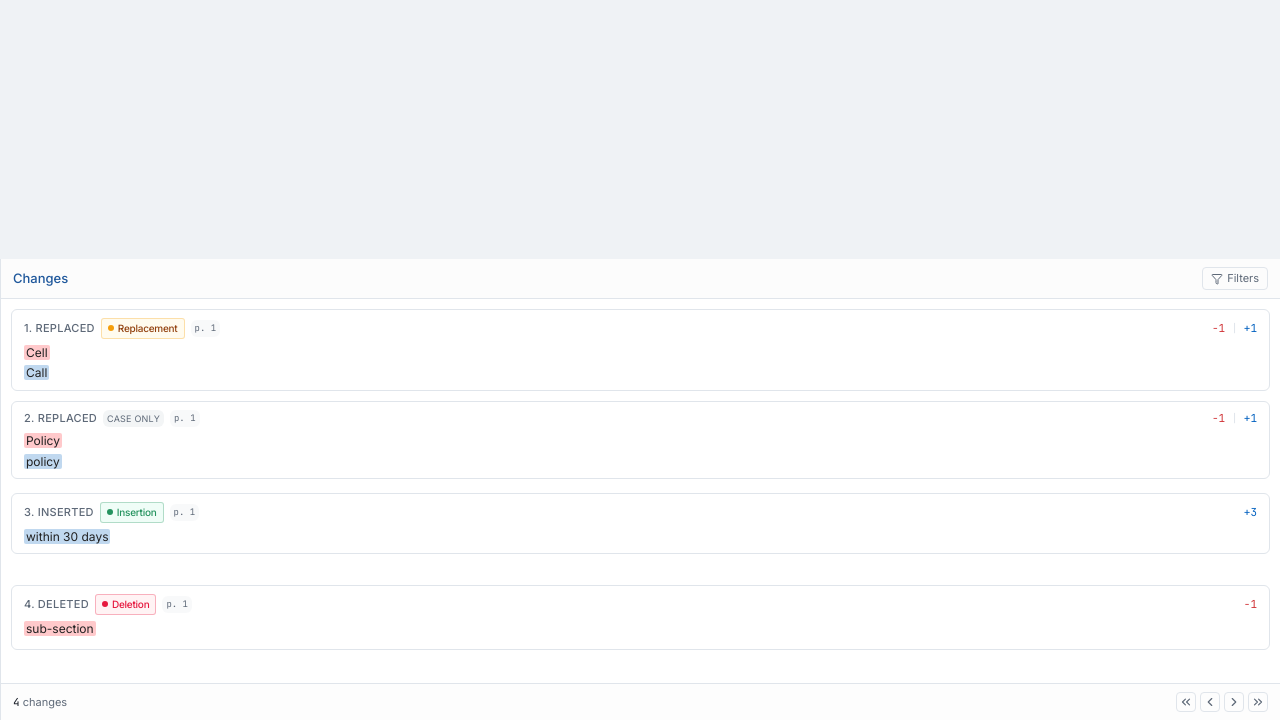
it: selected-change synchronisation › next / previous / first / last step through the filtered list
(page scrolled)
Click the button named "Jump to last change".
click(1258, 702)  # box [1248,692,1268,712]
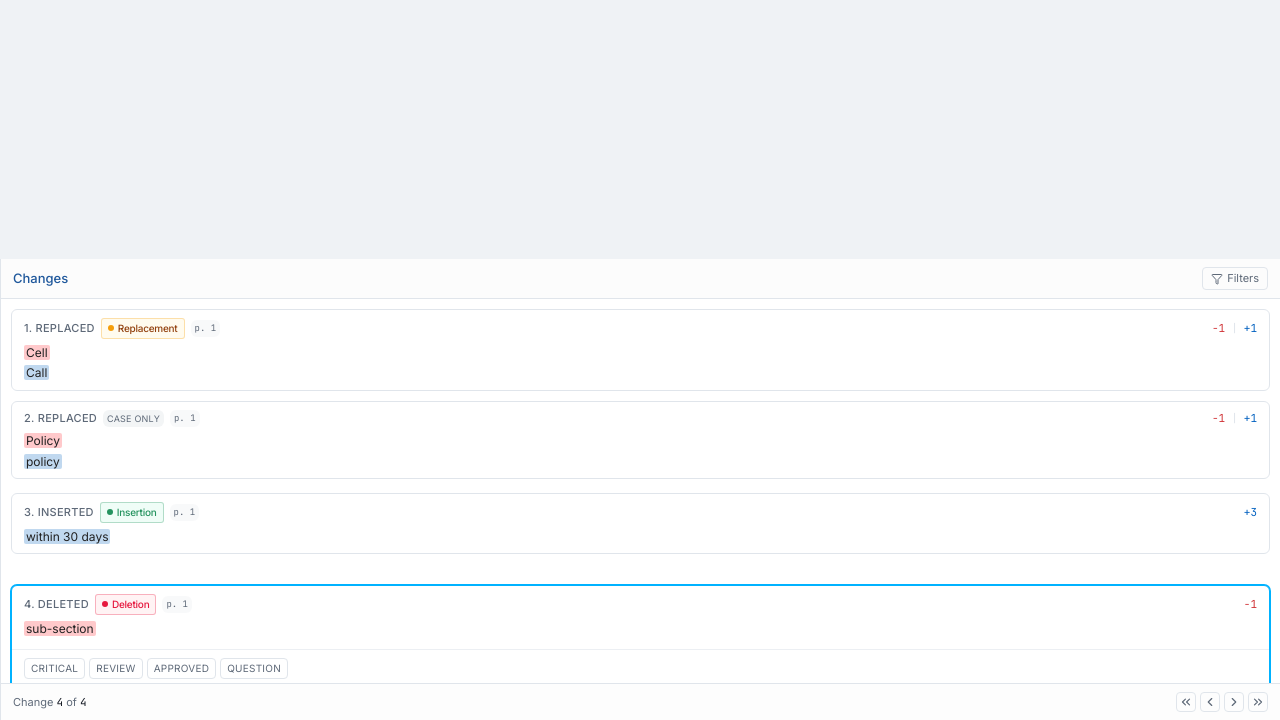
Check: the element with test id "change-counter" reads "Change 4 of 4", box [13,694,86,710]
Click the button named "Next change".
click(1234, 702)  # box [1224,692,1244,712]
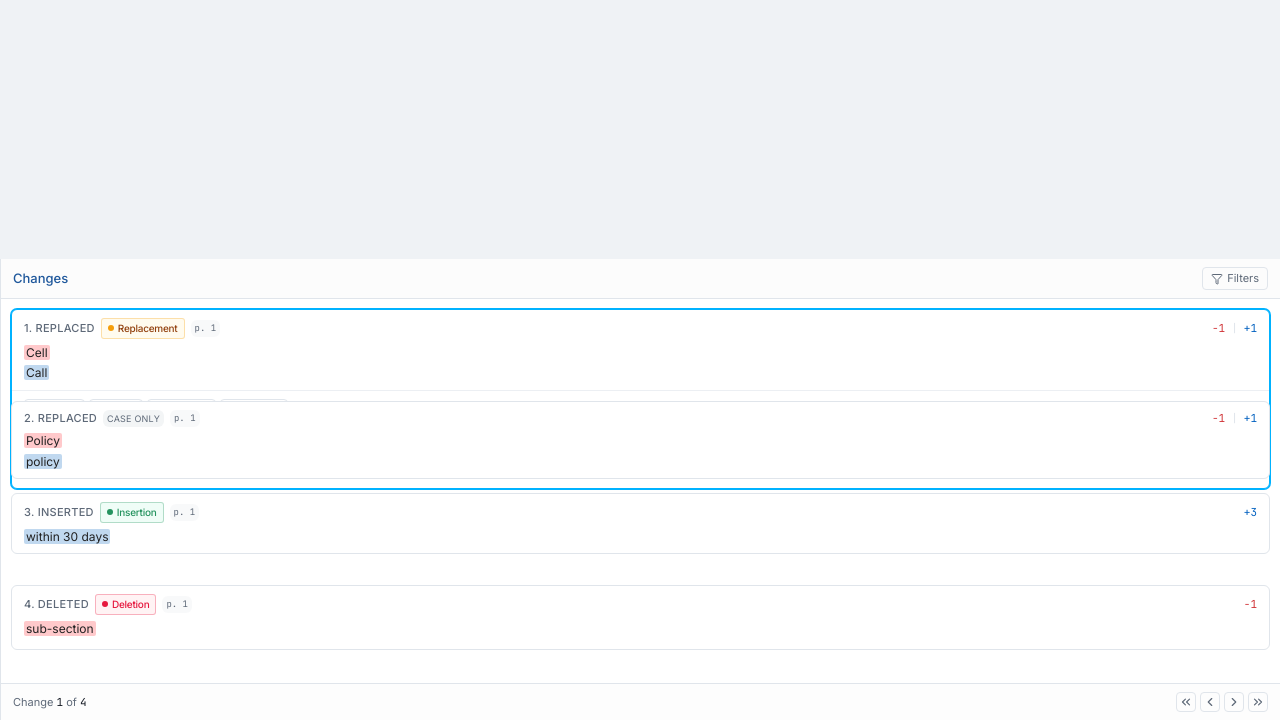
Check: the element with test id "change-counter" reads "Change 1 of 4", box [13,694,86,710]
Click the button named "Previous change".
click(1210, 702)  # box [1200,692,1220,712]
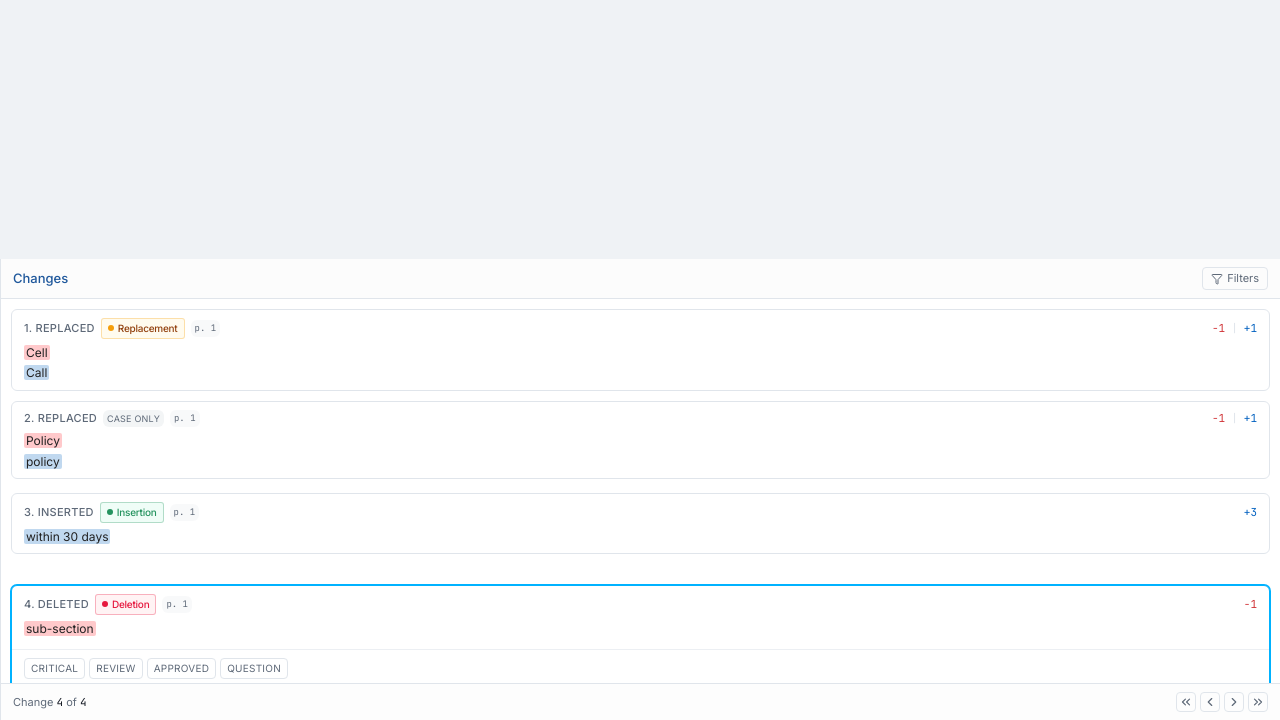
Check: the element with test id "change-counter" reads "Change 4 of 4", box [13,694,86,710]
